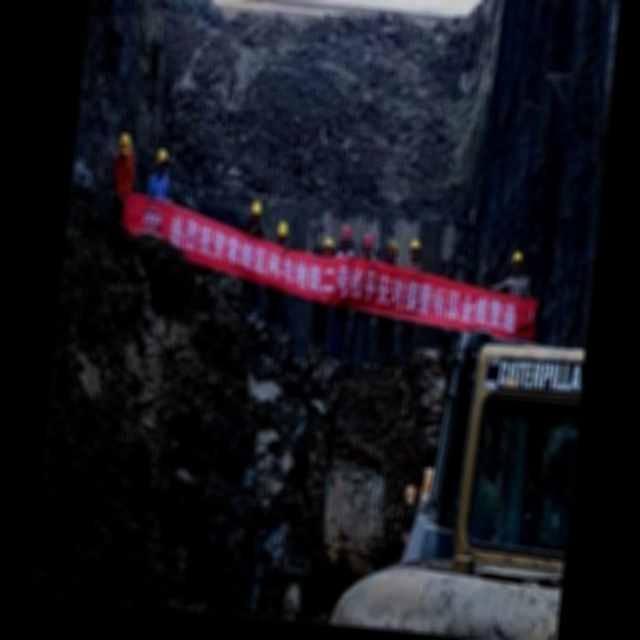Con_Casco: (249, 199, 263, 225), (156, 149, 170, 174), (276, 220, 289, 245)
